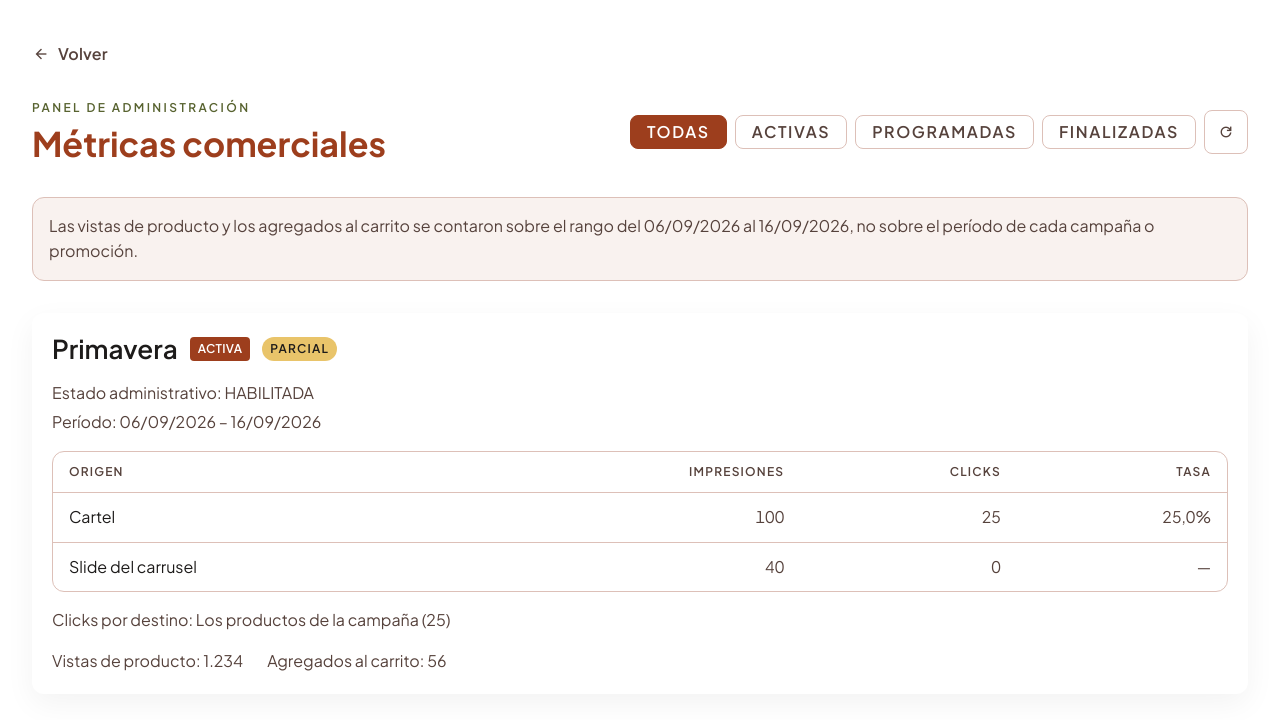
Test: AdminMetricasComerciales › con un filtro activo y cero resultados, el vacío dice que el filtro no encontró nada
Expected: the heading "Primavera" is shown, x1=52 y1=333 x2=178 y2=365
Click the button "Finalizadas" at [1119, 132], box x1=1042 y1=116 x2=1196 y2=150
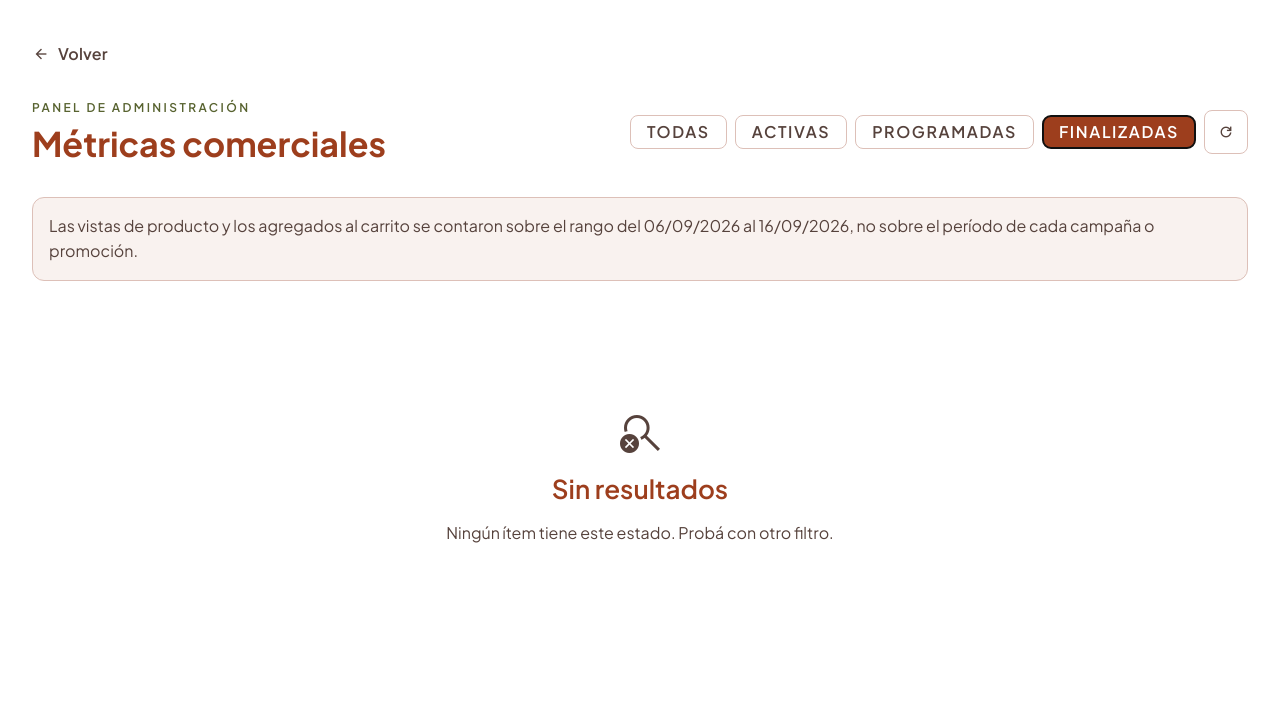
Now the heading "Sin resultados" is shown, box x1=552 y1=473 x2=728 y2=505
